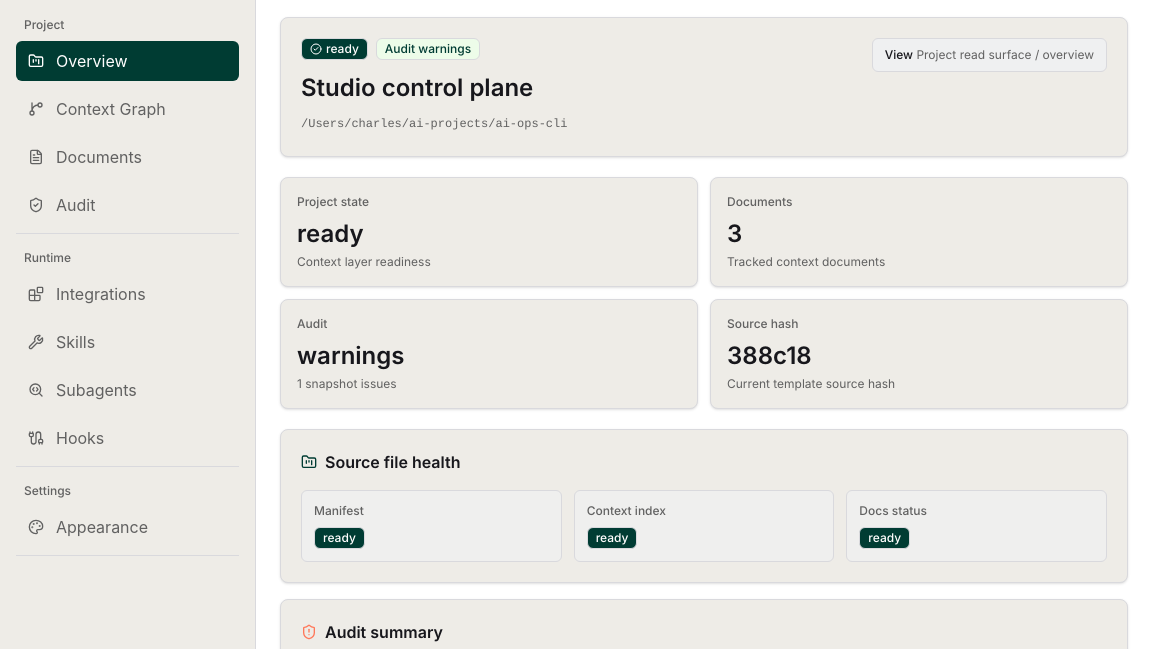
App shell › renders read-only Markdown preview with GFM and without raw HTML
The image size is (1152, 649).
Click the button "Documents".
click(128, 157)  # box [16,137,239,177]
(page scrolled)
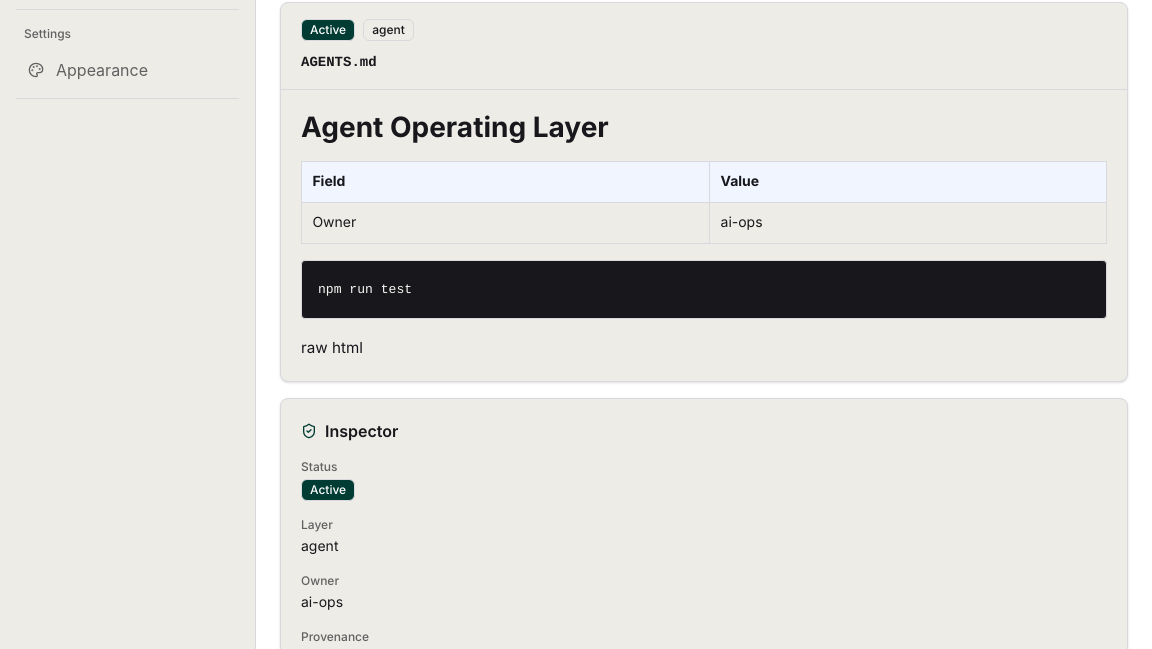
Check: the heading "Agent Operating Layer" is shown, box [301,110,609,144]
Check: the table is shown, box [301,161,1107,244]
Check: the text "npm run test" is shown, box [318,282,412,297]
